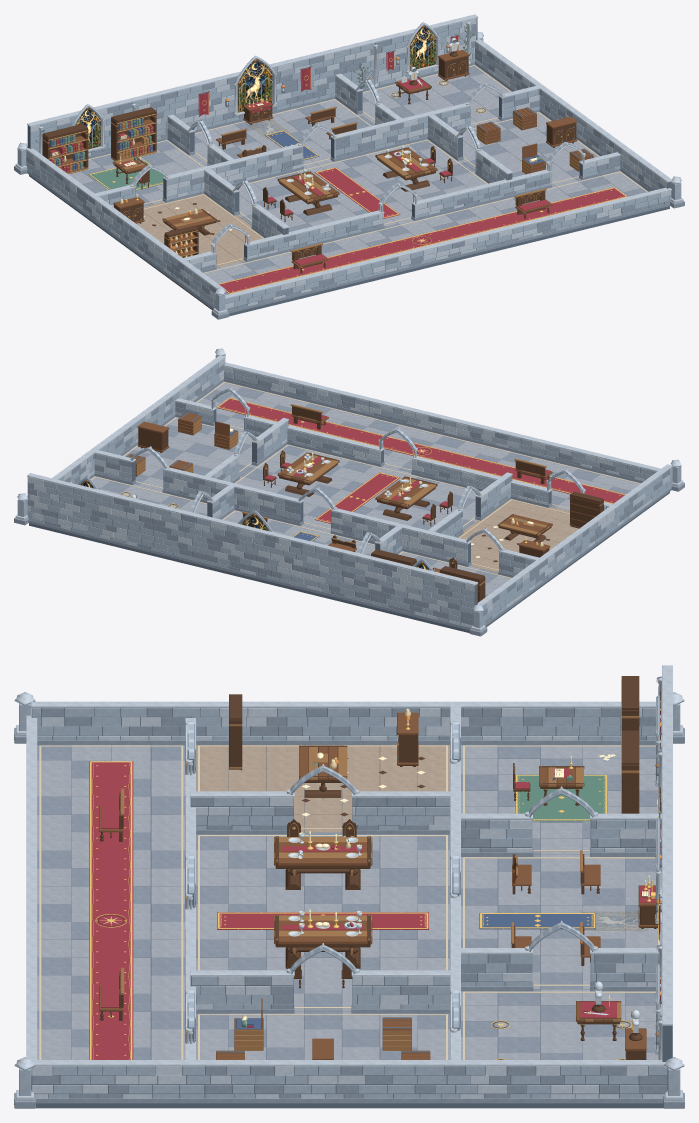
File: midnight-castle.glb
The picture shows the model from 3 angles, top to bottom: view 1: azimuth 30°, elevation 25°; view 2: azimuth 150°, elevation 25°; view 3: azimuth 270°, elevation 25°; orthographic projection. The views are drawn at different scales.
Visible parts, largest first — view 1: floor-tile, boundary-stone-light, boundary-stone, floor-tile-dark, boundary-stone-dark, wall-stone-light, furniture-wood-dark, wall-stone, wall-stone-dark, floor-wine, furniture-wood, dressing-stone-light (+18 smaller); view 2: boundary-stone, boundary-stone-light, floor-tile, boundary-stone-dark, floor-tile-dark, wall-stone-light, wall-stone, furniture-wood-dark, wall-stone-dark, floor-wine, boundary-mortar, floor-tile-warm (+10 smaller); view 3: floor-tile, floor-tile-dark, boundary-stone-light, boundary-stone, boundary-stone-dark, wall-stone-light, floor-wine, wall-stone, furniture-wood-dark, floor-tile-warm, wall-stone-dark, furniture-wood (+15 smaller).
Part boxes in pixels (x1=…): floor-tile: x1=69, y1=73, x2=642, y2=294; boundary-stone-light: x1=26, y1=14, x2=671, y2=308; boundary-stone: x1=26, y1=18, x2=671, y2=307; floor-tile-dark: x1=82, y1=64, x2=648, y2=294; boundary-stone-dark: x1=26, y1=23, x2=670, y2=313; wall-stone-light: x1=92, y1=73, x2=620, y2=270; furniture-wood-dark: x1=42, y1=51, x2=576, y2=273; wall-stone: x1=99, y1=76, x2=620, y2=268; wall-stone-dark: x1=108, y1=85, x2=620, y2=272; floor-wine: x1=219, y1=167, x2=627, y2=293; furniture-wood: x1=48, y1=50, x2=593, y2=267; dressing-stone-light: x1=15, y1=21, x2=683, y2=314; boundary-stone: x1=27, y1=363, x2=672, y2=624; boundary-stone-light: x1=27, y1=355, x2=672, y2=627; floor-tile: x1=90, y1=381, x2=640, y2=595; boundary-stone-dark: x1=27, y1=364, x2=671, y2=630; floor-tile-dark: x1=97, y1=386, x2=630, y2=596; wall-stone-light: x1=92, y1=398, x2=612, y2=573; wall-stone: x1=94, y1=412, x2=548, y2=575; furniture-wood-dark: x1=138, y1=406, x2=603, y2=602; wall-stone-dark: x1=94, y1=401, x2=552, y2=577; floor-wine: x1=216, y1=397, x2=624, y2=523; boundary-mortar: x1=28, y1=363, x2=672, y2=625; floor-tile-warm: x1=458, y1=499, x2=578, y2=572; floor-tile: x1=37, y1=745, x2=661, y2=1059; floor-tile-dark: x1=37, y1=745, x2=661, y2=1059; boundary-stone-light: x1=26, y1=665, x2=672, y2=1098; boundary-stone: x1=32, y1=708, x2=672, y2=1098; boundary-stone-dark: x1=32, y1=708, x2=672, y2=1103; wall-stone-light: x1=185, y1=703, x2=661, y2=1062; floor-wine: x1=89, y1=761, x2=428, y2=1059; wall-stone: x1=185, y1=738, x2=658, y2=1039; furniture-wood-dark: x1=100, y1=676, x2=658, y2=1059; floor-tile-warm: x1=196, y1=745, x2=449, y2=832; wall-stone-dark: x1=185, y1=740, x2=661, y2=1043; furniture-wood: x1=99, y1=712, x2=657, y2=1059.
Size of the model in its own units: 33.42 by 4.64 by 25.33.
Materials: 25 (14 with a texture image).
